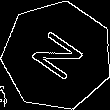N_SE: (25, 25, 89, 87)
